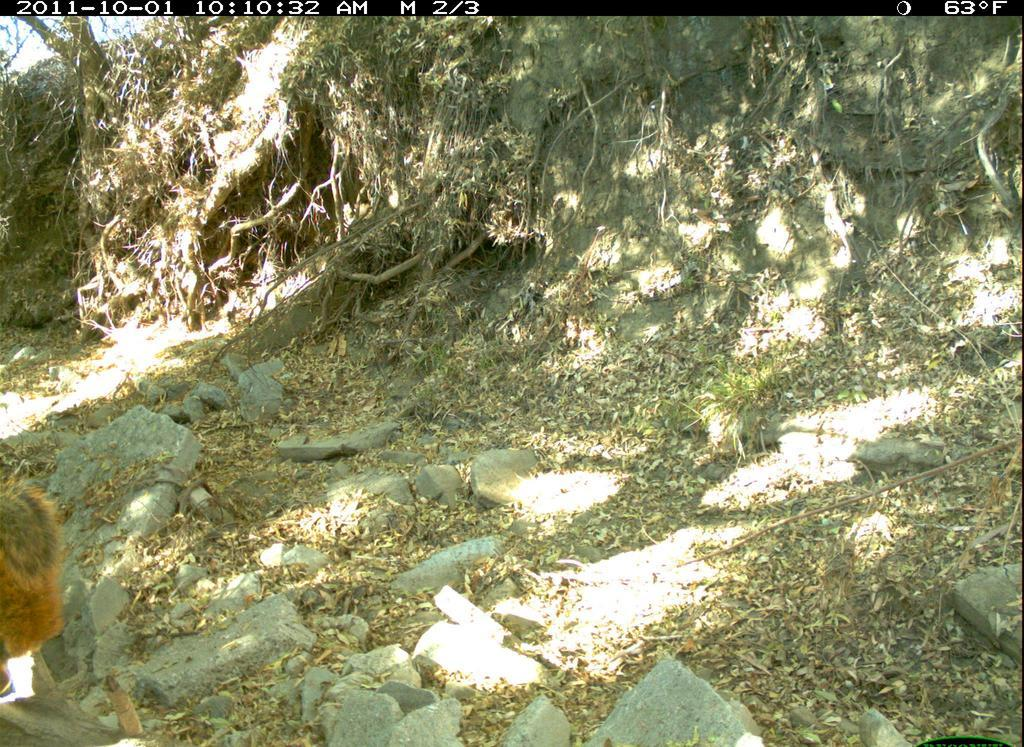squirrel: (1, 469, 75, 670)
